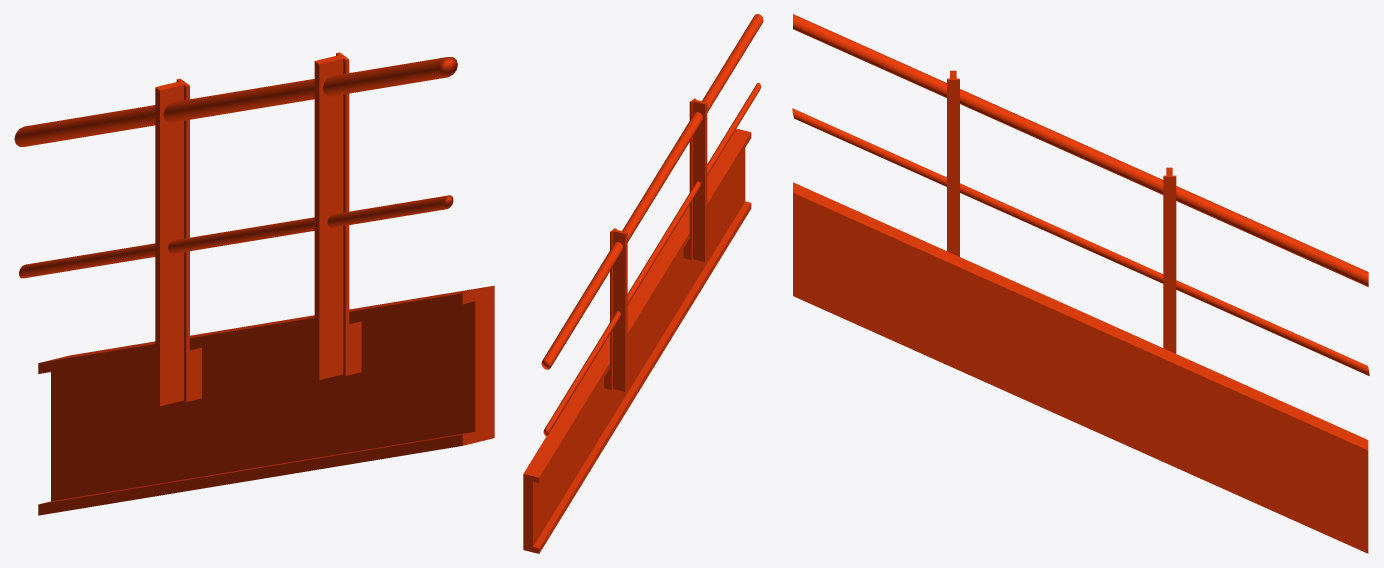
Rendered from Stairs_Side.fbx.
3 renders of one model, left to right at view 1: azimuth 30°, elevation 25°; view 2: azimuth 150°, elevation 25°; view 3: azimuth 270°, elevation 25°, orthographic. The views are drawn at different scales.
Visible parts, largest first — view 1: Stairs_Side; view 2: Stairs_Side; view 3: Stairs_Side.
Part boxes in pixels (bbox=[...]): Stairs_Side: bbox=[14, 52, 494, 515]; Stairs_Side: bbox=[523, 14, 763, 553]; Stairs_Side: bbox=[792, 14, 1369, 553].
Bounding box in the file's own units: 24.25 × 301 × 301.
